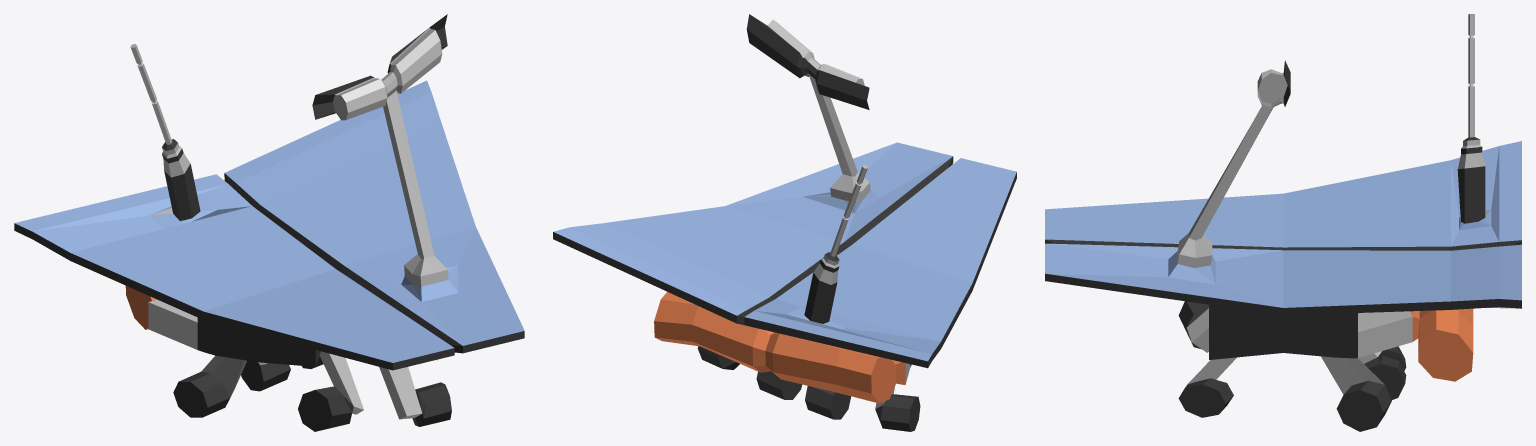
File: Drone.fbx
3 views of the same model, side by side, from view 1: azimuth 30°, elevation 25°; view 2: azimuth 150°, elevation 25°; view 3: azimuth 270°, elevation 25° (orthographic). The views are drawn at different scales.
Visible parts, largest first — view 1: SpaceExploratioinDrone.001; view 2: SpaceExploratioinDrone.001; view 3: SpaceExploratioinDrone.001.
Boxes of the visible parts, x1,y1,x2,y2 form: SpaceExploratioinDrone.001: (14,14,524,431); SpaceExploratioinDrone.001: (553,14,1016,431); SpaceExploratioinDrone.001: (1045,14,1521,431).
Size of the model in its own units: 314 by 275 by 314.
